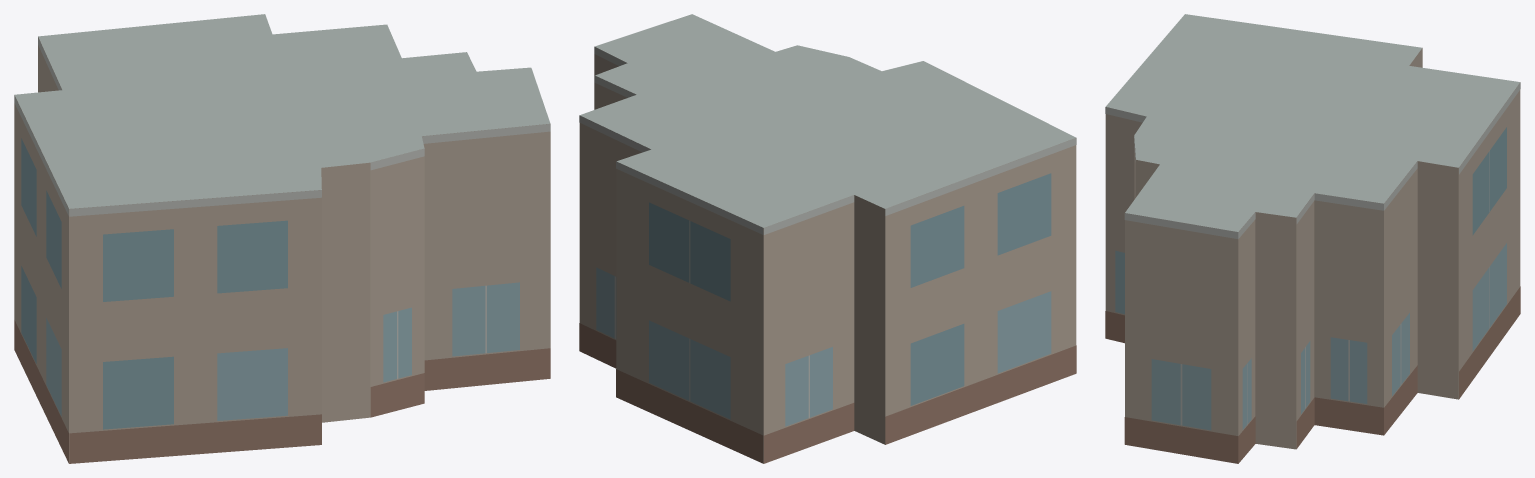
The model's file is survey-upis-32744115.glb.
The picture shows the model from 3 angles, left to right: view 1: azimuth 30°, elevation 25°; view 2: azimuth 150°, elevation 25°; view 3: azimuth 270°, elevation 25°; orthographic projection. The views are drawn at different scales.
Parts seen in each view (by area): view 1: survey-upis-32744115.tmp; view 2: survey-upis-32744115.tmp; view 3: survey-upis-32744115.tmp.
Part boxes in pixels (<box>): survey-upis-32744115.tmp: <box>14,14,550,463</box>; survey-upis-32744115.tmp: <box>579,14,1076,463</box>; survey-upis-32744115.tmp: <box>1105,14,1520,463</box>.
Size of the model in its own units: 15.95 by 7.9 by 12.83.
